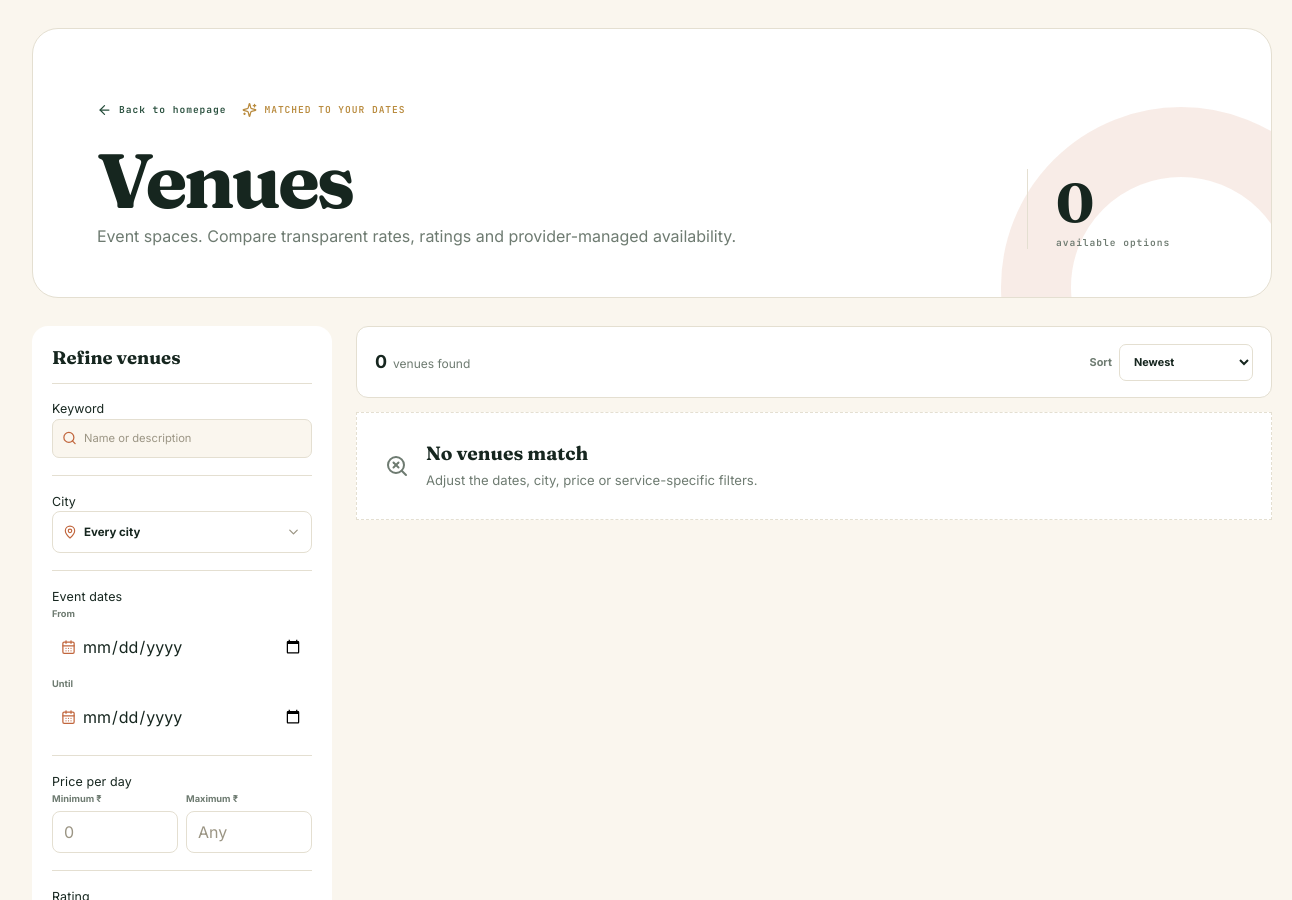
ServiceListPage › keeps selected dates in the results URL
The width and height of the screenshot is (1292, 900).
Step 1. Type "2026-12-10" into the date field labelled "From" → x=192, y=647, box [82, 634, 303, 660]
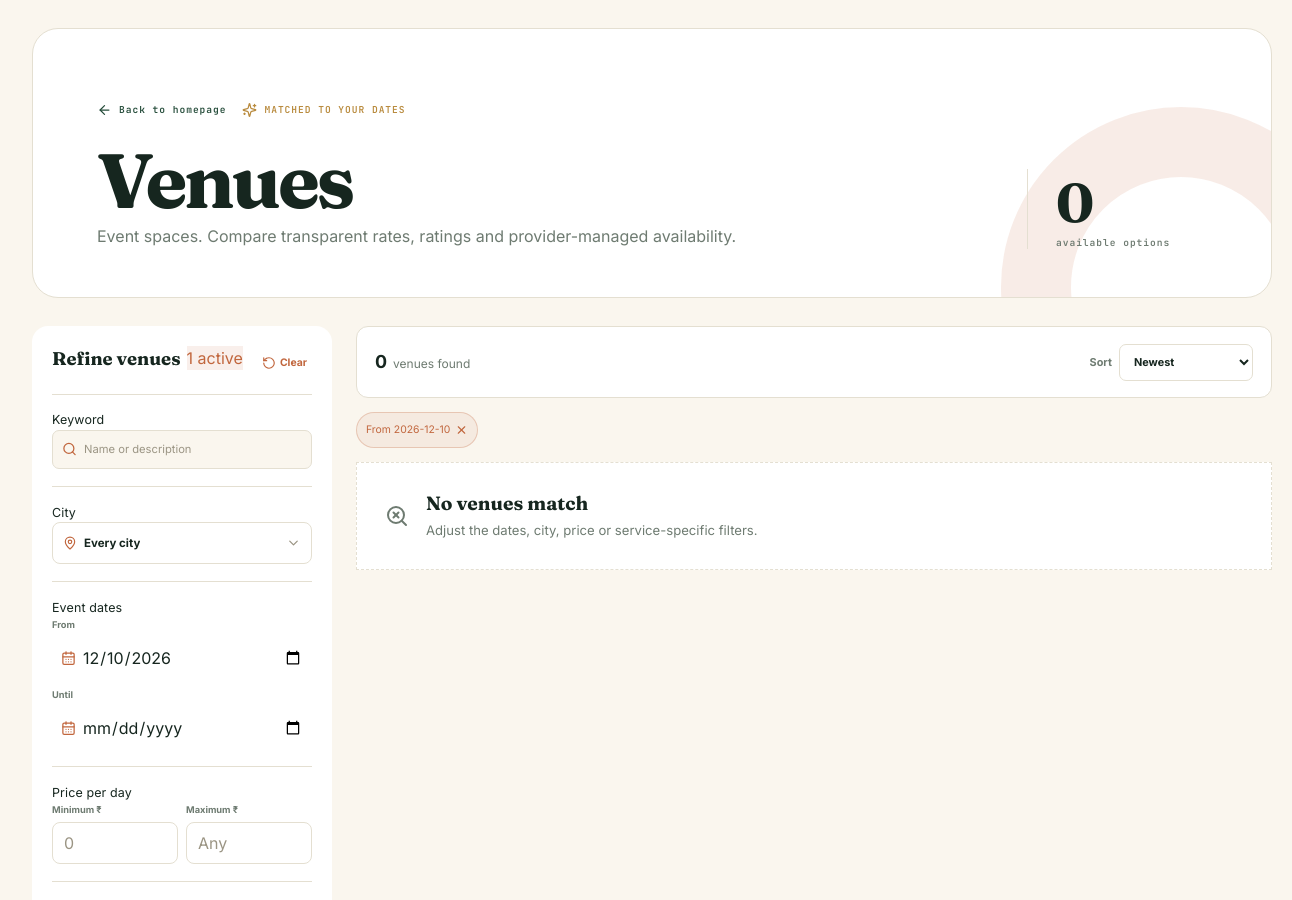
Step 2. Type "2026-12-12" into the date field labelled "Until" → x=192, y=728, box [82, 715, 303, 741]
(page scrolled)
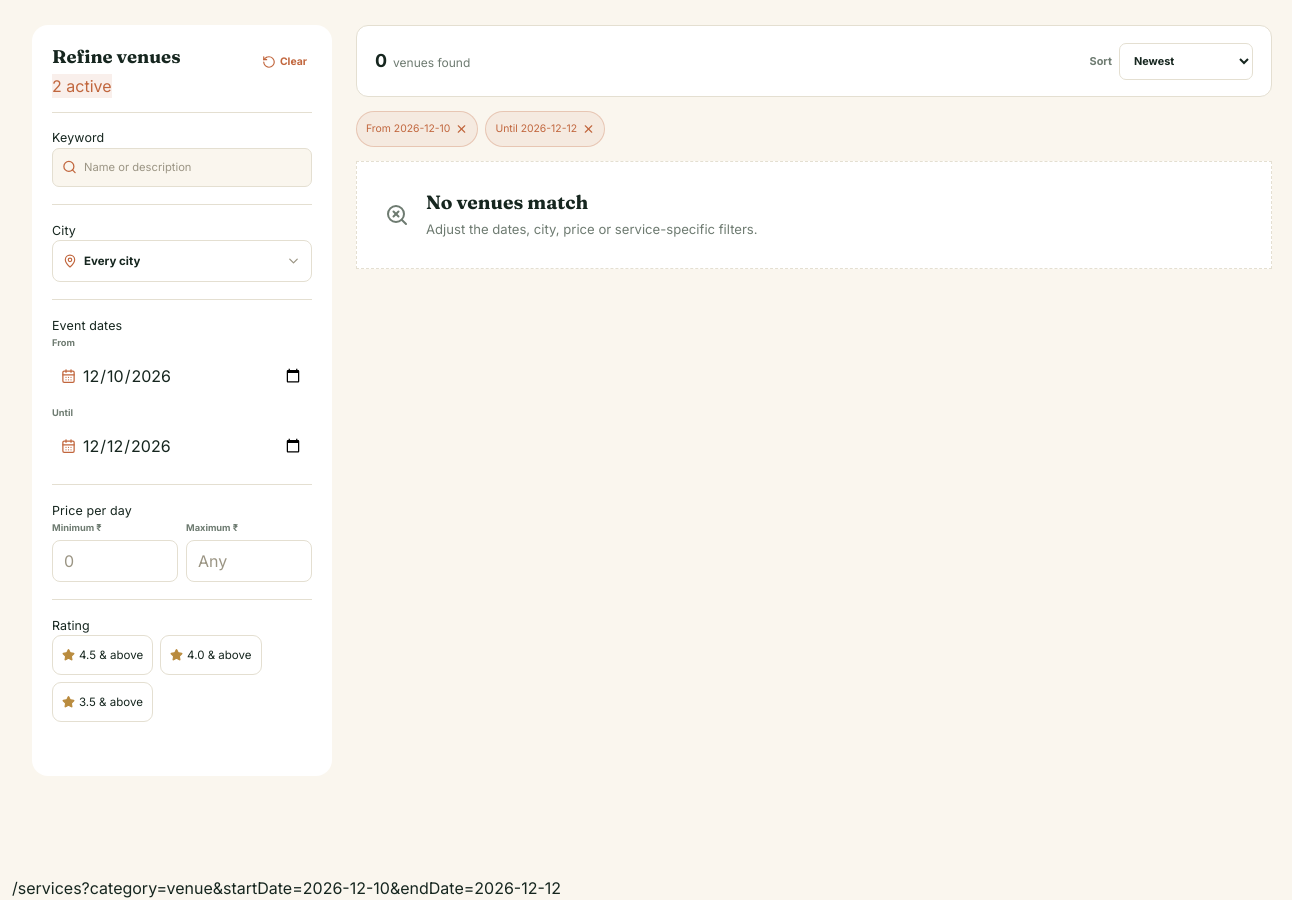
Now the text with test id "current-location" shows "startDate=2026-12-10", box [82, 878, 561, 898]
Now the text with test id "current-location" shows "endDate=2026-12-12", box [82, 878, 561, 898]
